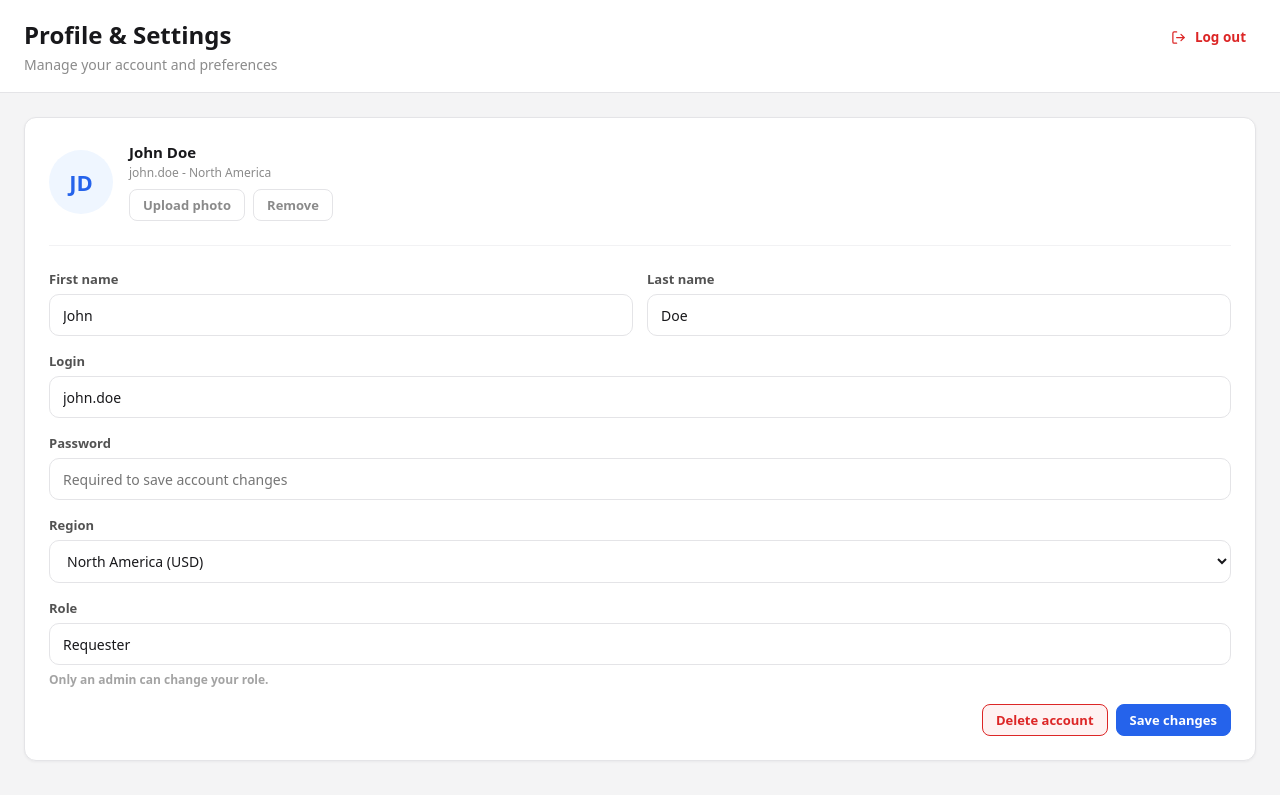
Scenario: ProfileView › saves profile changes and reports success
Replace the text in the field labelled "First name" with "Johnny": coordinates (341, 315) 49,294 -> 633,336
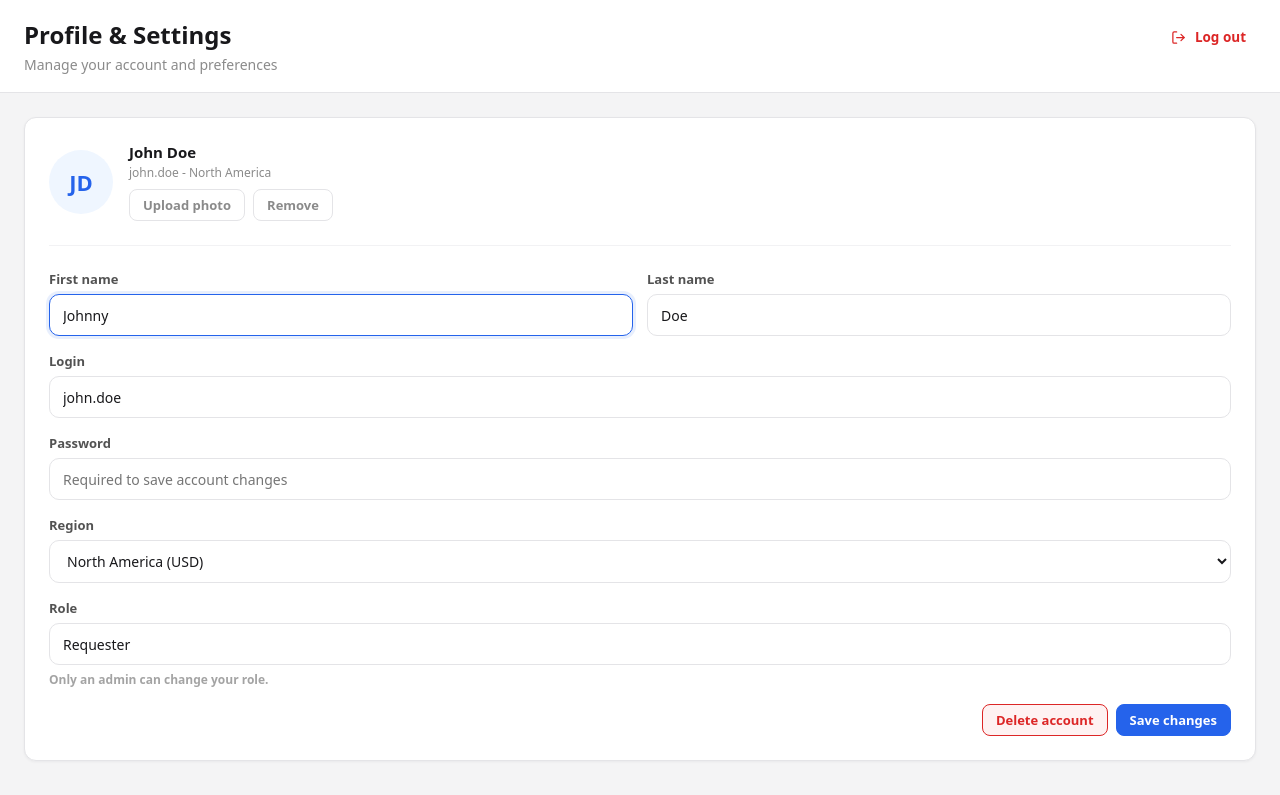
In the password field with placeholder "Required to save account changes": coordinates (640, 479) 49,458 -> 1231,500, type "secret"
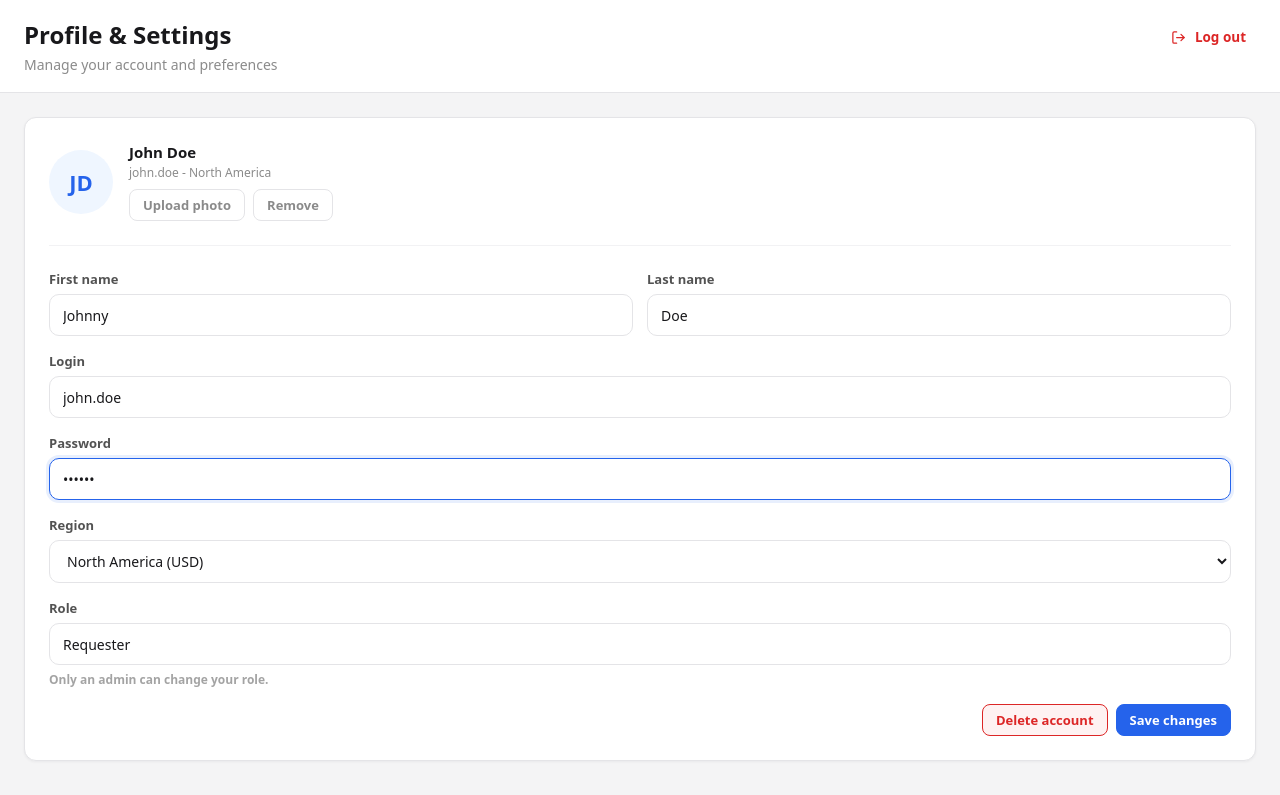
Click the button "Save changes": coordinates (1173, 720) 1116,704 -> 1231,736
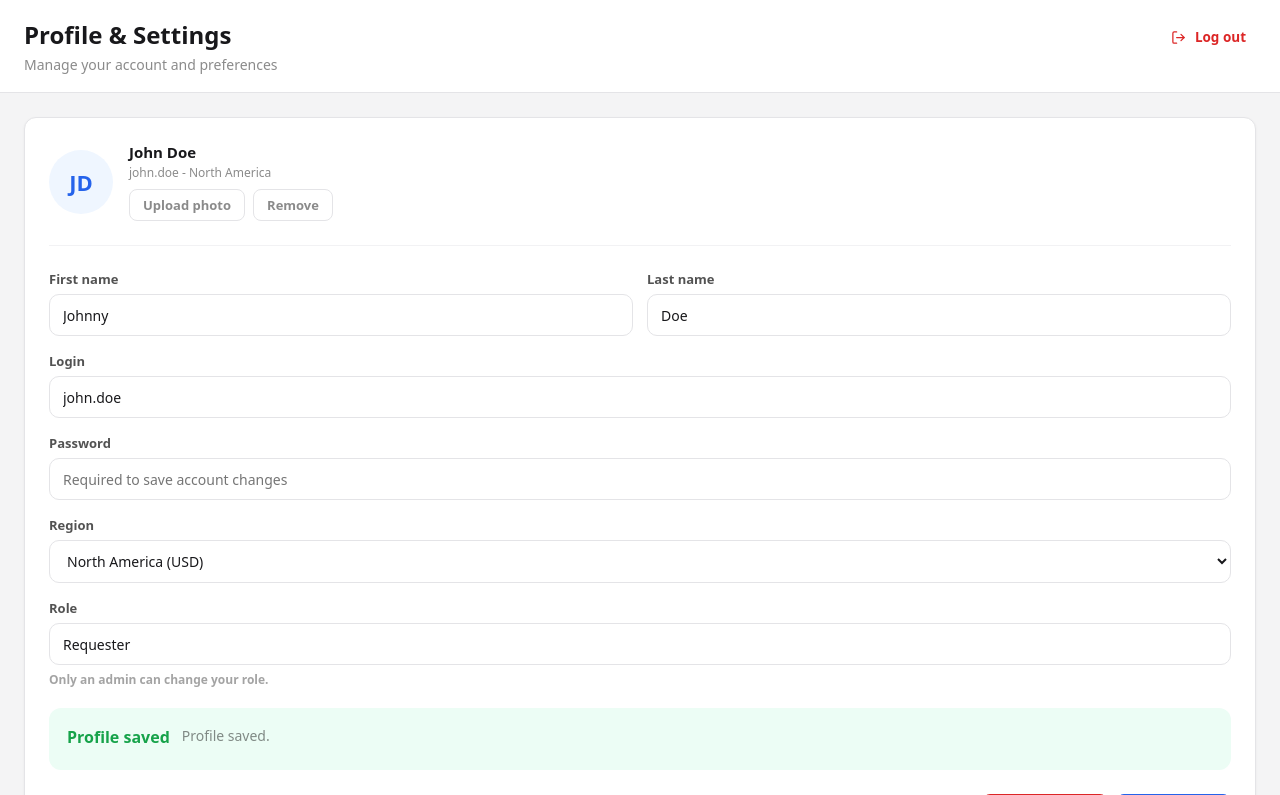
Expected: the text "Profile saved." is shown, 182,726 -> 270,752
